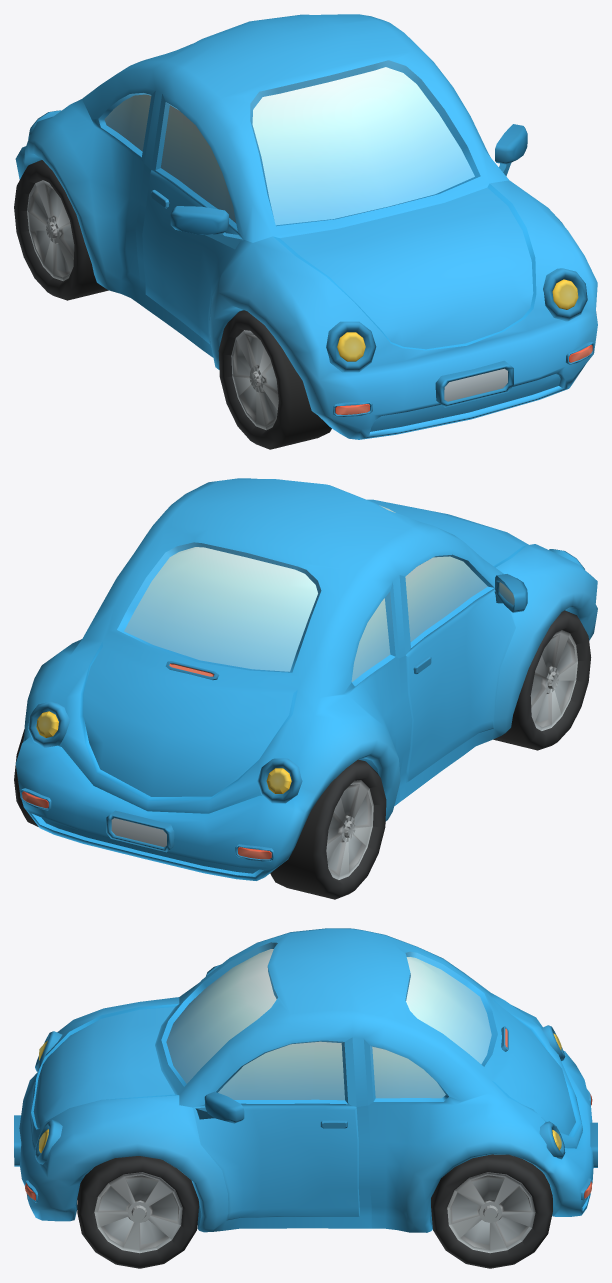
Rendered from Beetle_Car.fbx.
3 views of the same model, one above another, from view 1: azimuth 30°, elevation 25°; view 2: azimuth 150°, elevation 25°; view 3: azimuth 270°, elevation 25° (orthographic). The views are drawn at different scales.
Parts seen in each view (by area): view 1: Beetle; view 2: Beetle; view 3: Beetle.
Boxes of the visible parts, left/top/right/bottom form: Beetle: left=14, top=14, right=597, bottom=449; Beetle: left=14, top=478, right=597, bottom=899; Beetle: left=14, top=928, right=597, bottom=1268.
Size of the model in its own units: 26.46 by 20.42 by 43.7.
Materials: 1 (1 with a texture image).
